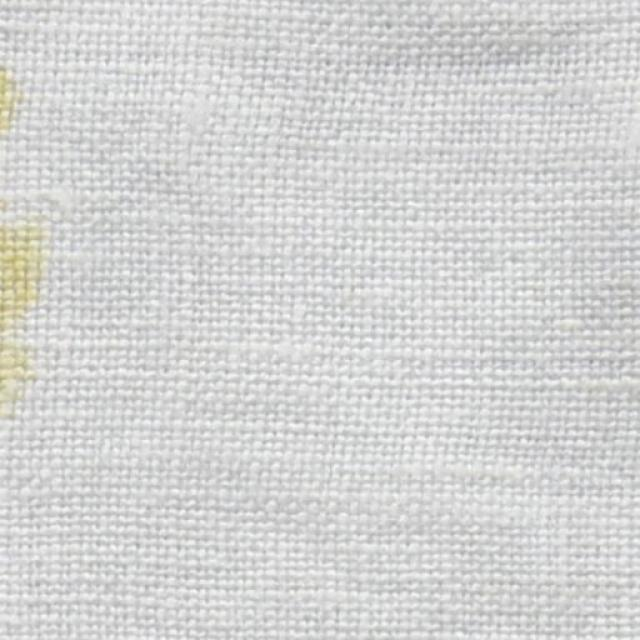Stain: (0, 195, 50, 410)
